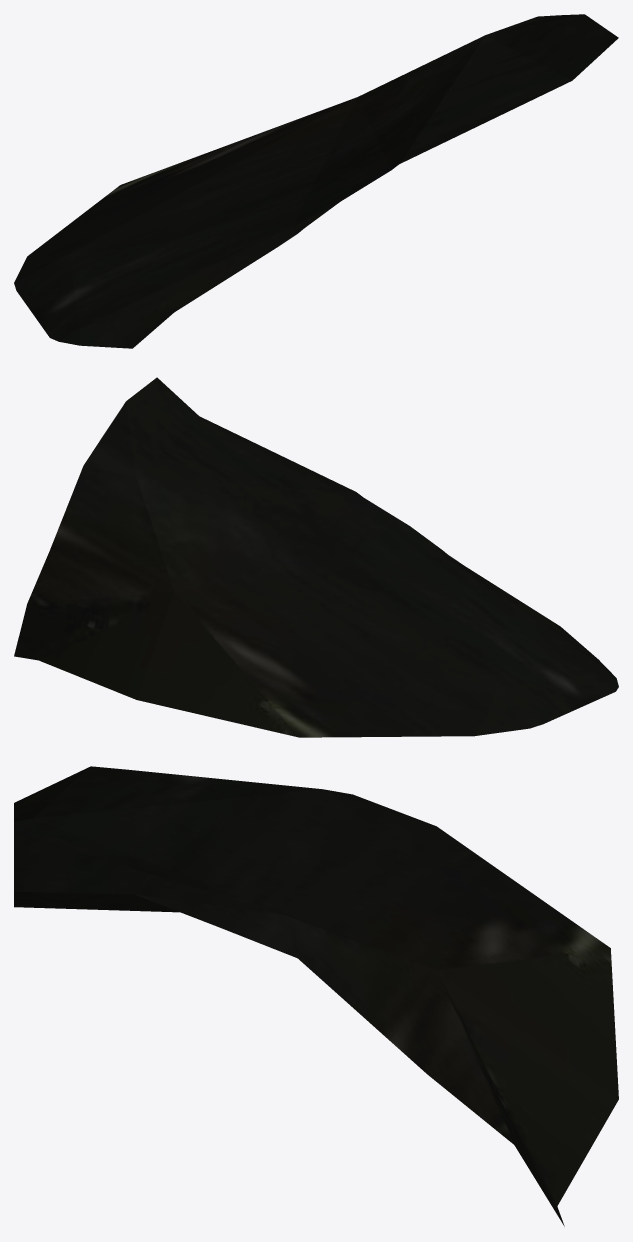
3 renders of one model, top to bottom at view 1: azimuth 30°, elevation 25°; view 2: azimuth 150°, elevation 25°; view 3: azimuth 270°, elevation 25°, orthographic. The views are drawn at different scales.
Size of the model in its own units: 0.7867 by 0.2688 by 0.439.
2 materials, 2 textured.
